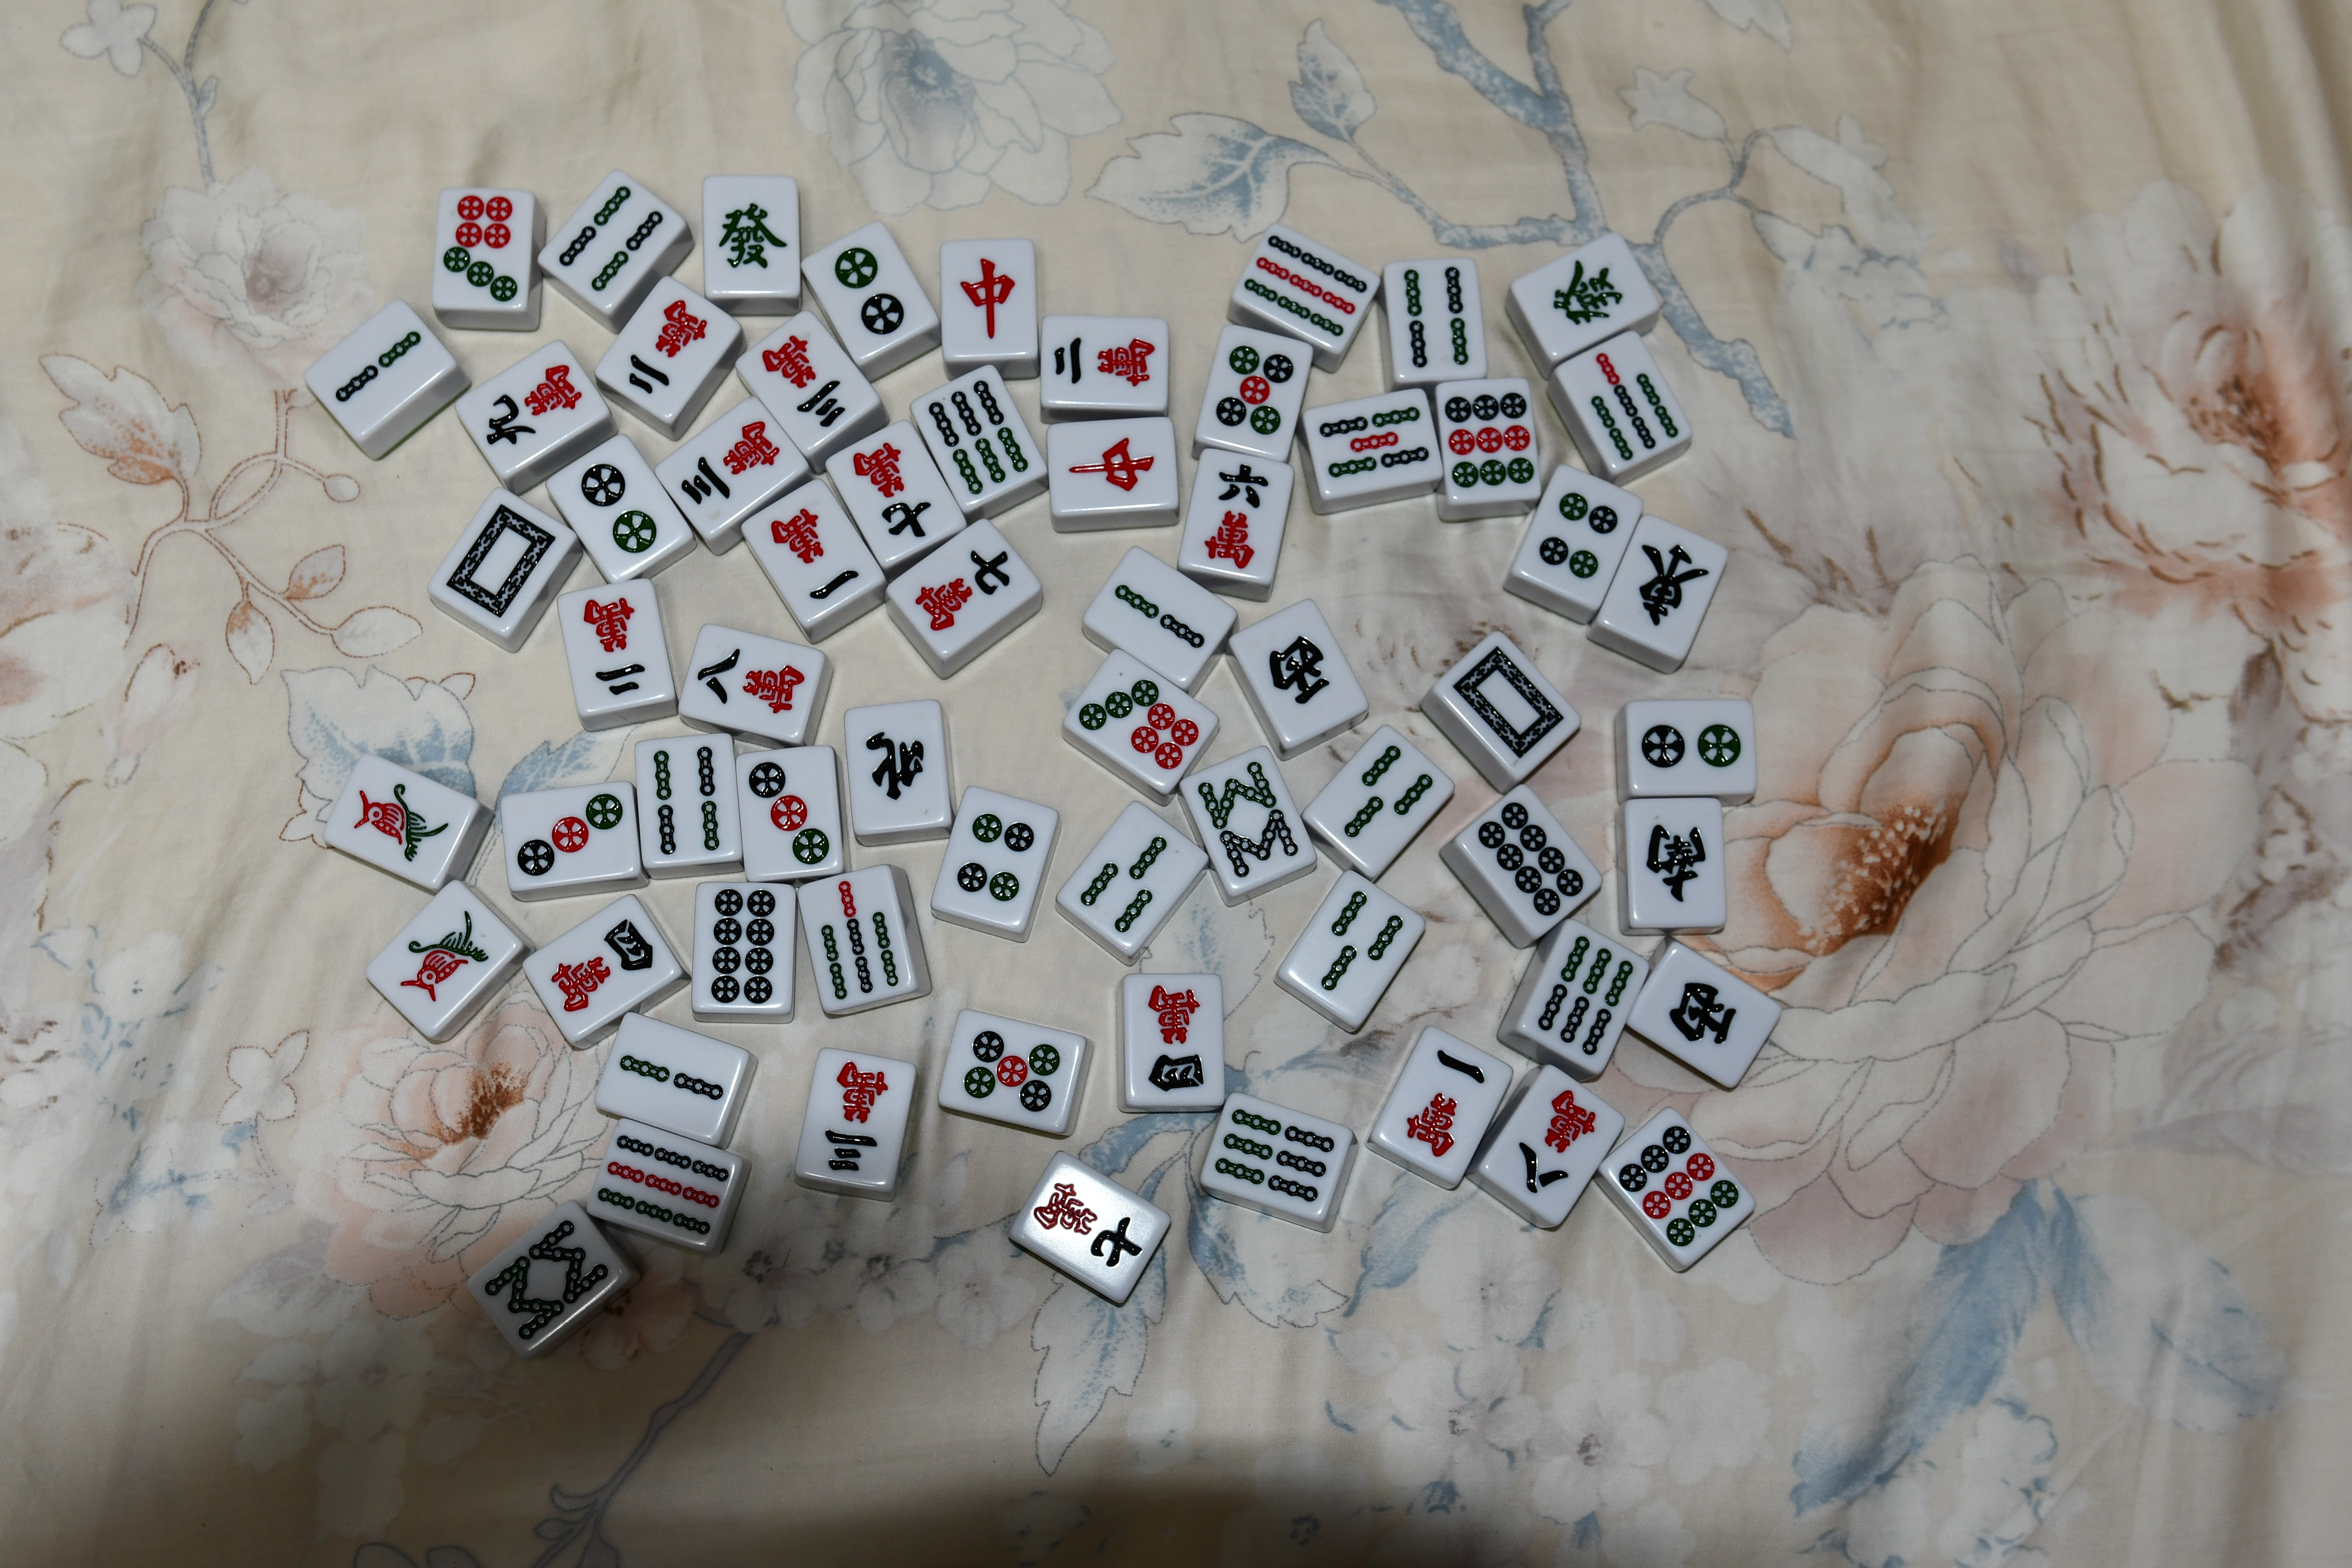b-1: (398, 905, 492, 1005), (349, 779, 453, 866)
b-2: (1108, 580, 1209, 654), (613, 1050, 727, 1113), (334, 327, 421, 408)
b-3: (1311, 891, 1405, 996), (1075, 830, 1171, 932), (1340, 746, 1436, 842)
b-4: (557, 183, 664, 291), (1393, 263, 1476, 373), (651, 741, 725, 855)
b-5: (1317, 408, 1430, 479)
b-6: (930, 378, 1031, 496), (1215, 1108, 1338, 1205), (1537, 935, 1633, 1057)
b-7: (1584, 349, 1682, 461), (819, 877, 901, 1001)
b-8: (482, 1219, 609, 1340), (1197, 762, 1302, 882)
b-9: (1245, 230, 1370, 344), (597, 1135, 729, 1239)
c-1: (1403, 1048, 1484, 1159), (768, 508, 860, 598)
c-2: (574, 592, 654, 696), (623, 300, 711, 395), (1050, 334, 1155, 394)
c-3: (819, 1059, 891, 1174), (681, 422, 781, 504), (759, 335, 847, 428)
c-4: (551, 918, 655, 1014), (1140, 982, 1211, 1094)
c-6: (1203, 462, 1271, 566)
c-7: (1032, 1182, 1140, 1270), (852, 441, 934, 539), (915, 548, 1011, 632)
c-8: (1518, 1087, 1598, 1198), (697, 645, 807, 719)
c-9: (485, 361, 581, 448)
d-1: (514, 793, 623, 879)
d-2: (578, 460, 659, 555), (833, 245, 906, 335), (1642, 719, 1745, 777)
d-3: (746, 757, 831, 868)
d-4: (1538, 490, 1618, 581), (957, 811, 1034, 901)
d-5: (963, 1026, 1062, 1113), (1215, 344, 1295, 437)
d-7: (1076, 678, 1200, 775), (440, 194, 525, 305)
d-8: (1476, 800, 1583, 918), (707, 885, 781, 1007)
d-9: (1617, 1125, 1740, 1247), (1442, 391, 1538, 493)
honors-east: (1628, 539, 1708, 637)
honors-green: (1538, 253, 1627, 336), (714, 195, 789, 279)
honors-north: (862, 724, 931, 805)
honors-red: (953, 253, 1024, 346), (1062, 435, 1157, 493)
honors-south: (1641, 813, 1710, 911)
honors-west: (1667, 976, 1744, 1060), (1266, 627, 1332, 712)
honors-white: (444, 502, 559, 618), (1450, 647, 1567, 761)
